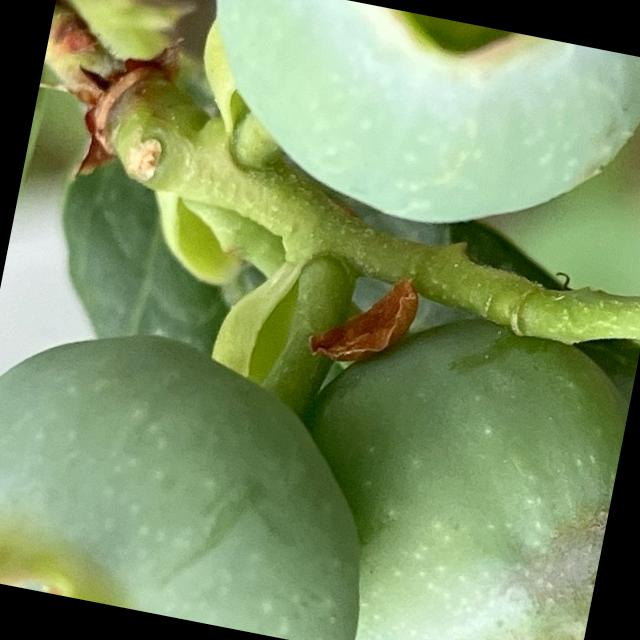Blueberries: (0, 303, 404, 640), (166, 0, 640, 270)
